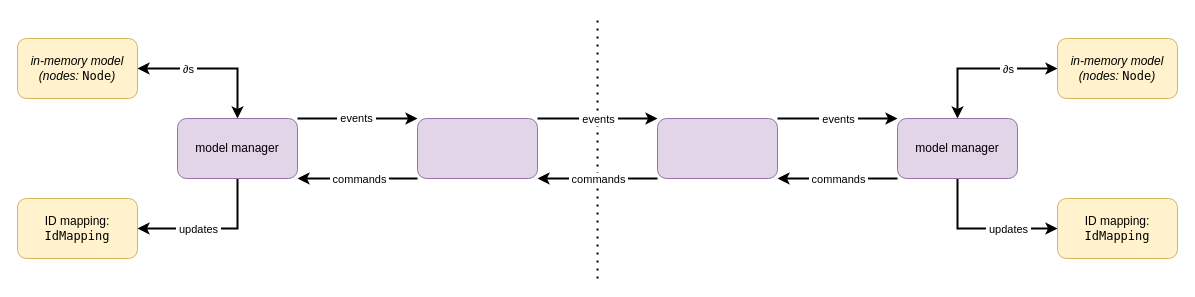
This 1195x297 diagram has some shape labels left out. The box of each missing label's shape, as (x1, y1, x2, y2) in pixels:
WebSocket client(s): (656, 118, 778, 178)
WebSocket server: (416, 118, 538, 178)
